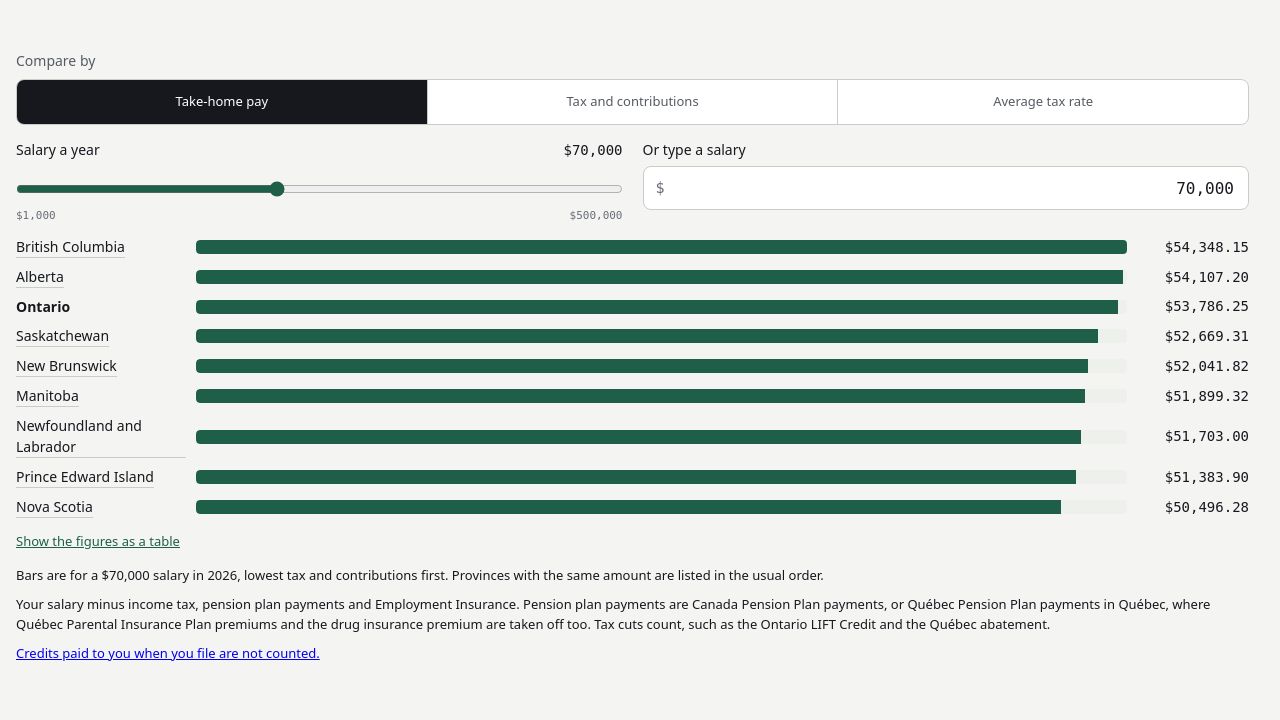
Test: the salary controls › moves every bar to the chosen salary: at $30,000 Ontario passes Alberta
The image size is (1280, 720).
Step 1. Set the slider labelled "Salary a year" to "2" → (193, 189), box [16, 167, 622, 211]
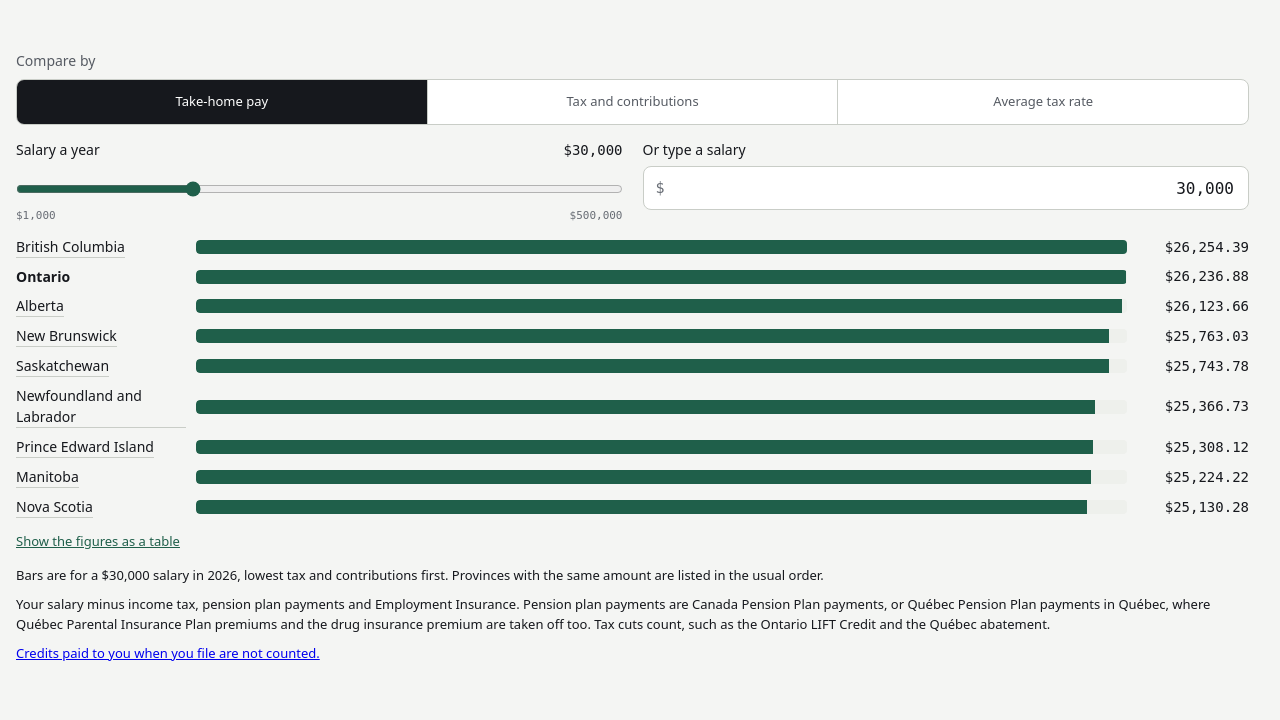
Expected: the text "Bars are for a $30,000 salary in 2026, lowest tax and contributions first. Provinces with the same amount are listed in " is shown, [16, 566, 824, 584]
